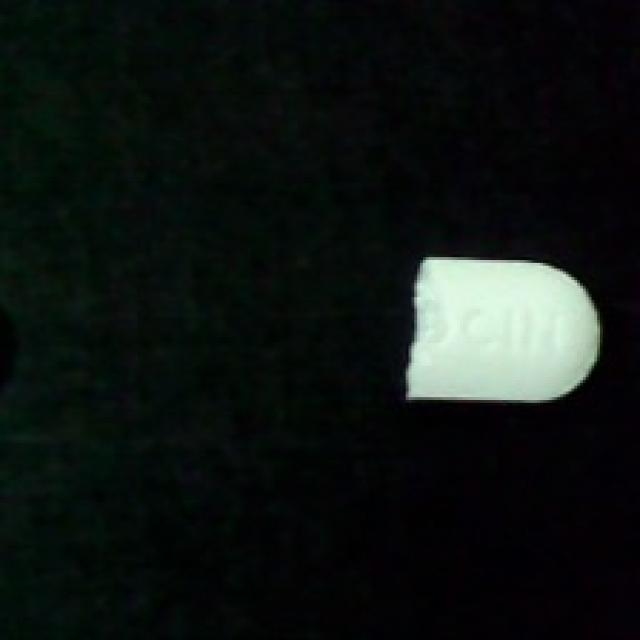defected: (397, 251, 606, 414)
